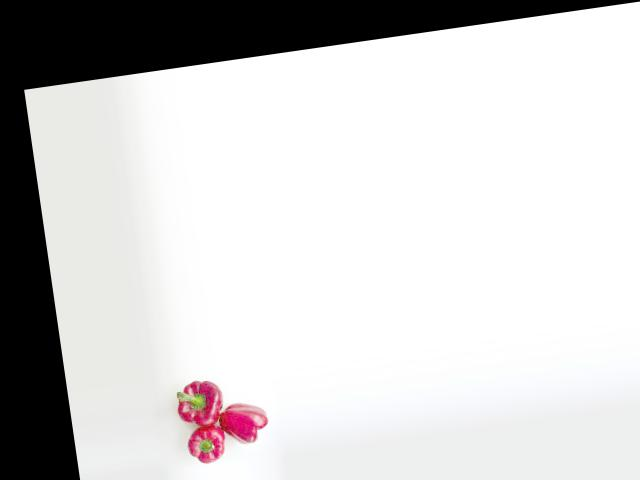bell_pepper: (215, 394, 278, 455)
